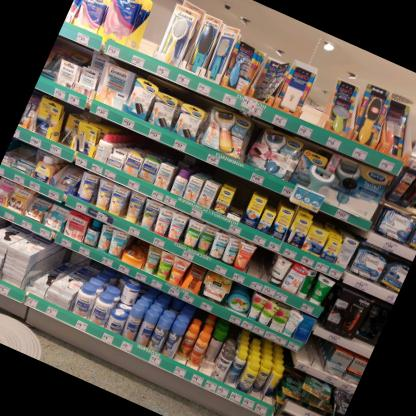empty_space: (133, 5, 173, 60), (299, 74, 337, 128), (243, 248, 271, 282), (296, 331, 320, 366), (309, 340, 333, 373)
